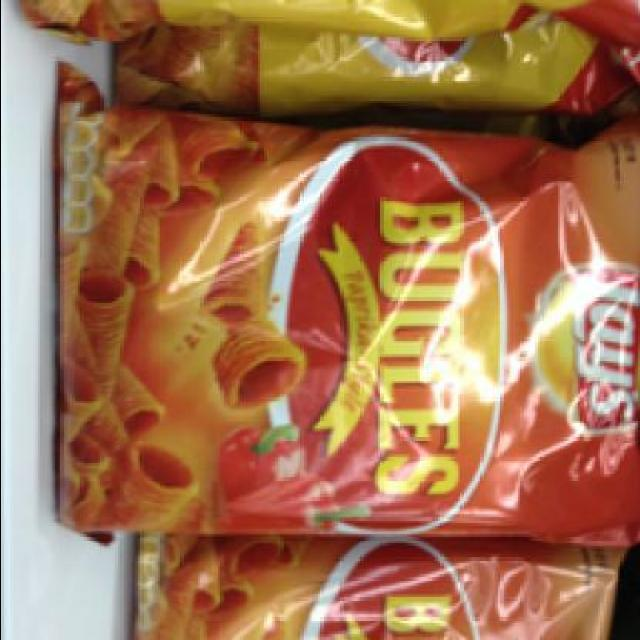Chips: (56, 113, 638, 536)
